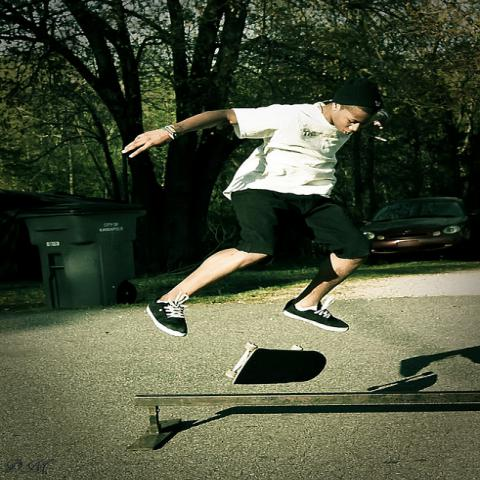car: (363, 198, 479, 260)
